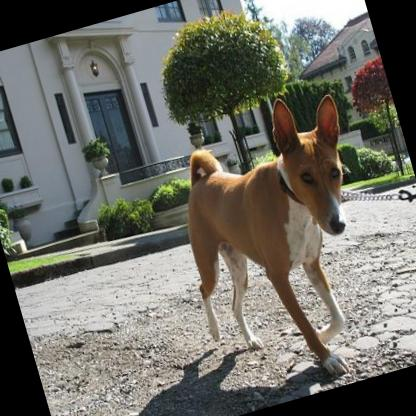basenji: (152, 86, 408, 408)
